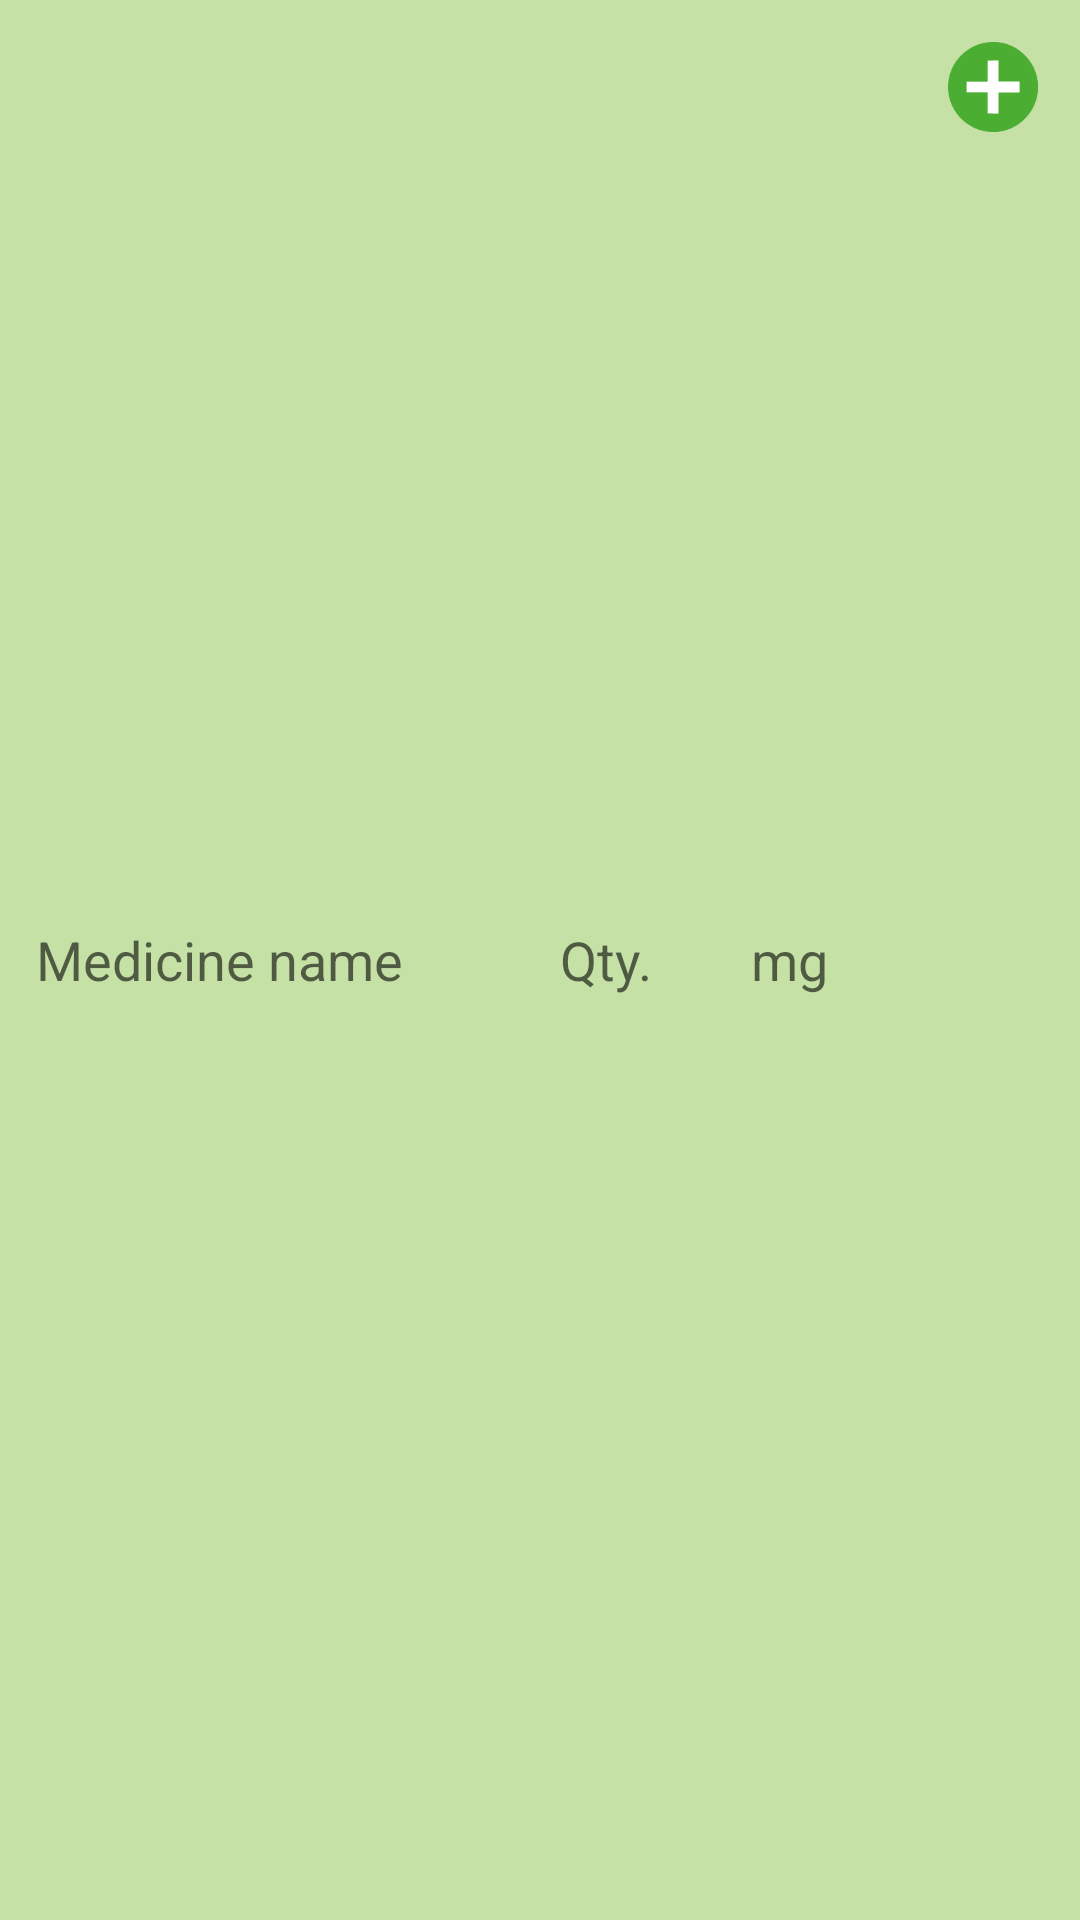

Named icons in this screenshot (1080px x 1920px) and their centers, [x,y]:
add: [993,87]
